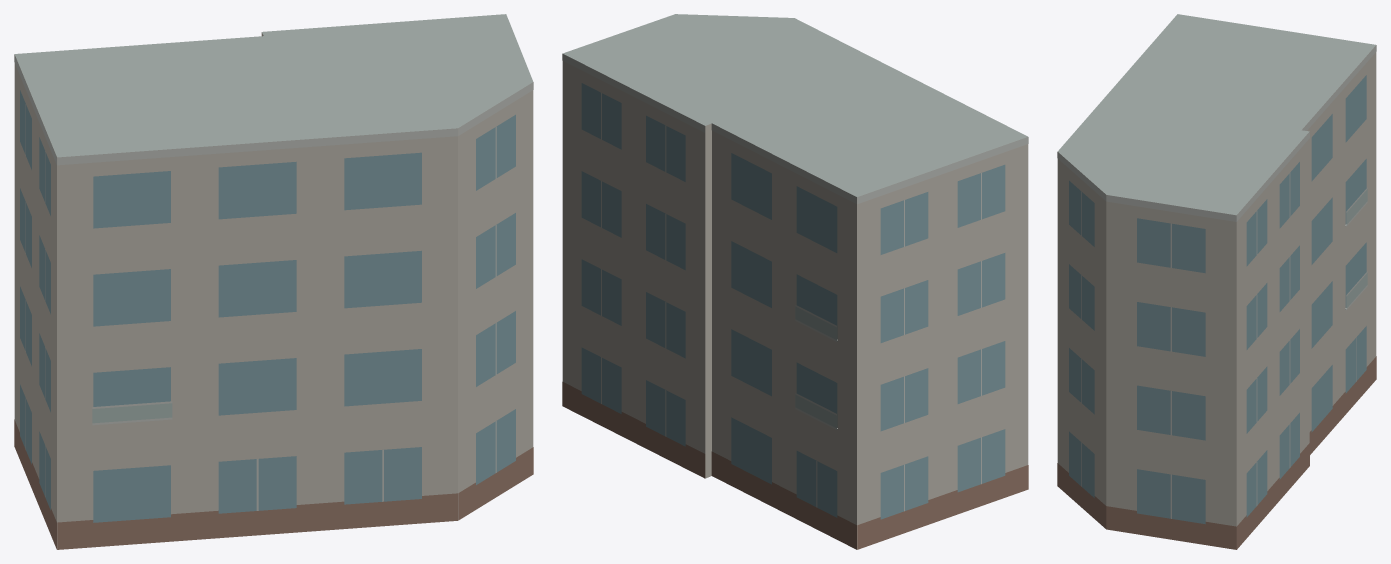
File: survey-upis-32873740.glb
The picture shows the model from 3 angles, left to right: view 1: azimuth 30°, elevation 25°; view 2: azimuth 150°, elevation 25°; view 3: azimuth 270°, elevation 25°; orthographic projection. The views are drawn at different scales.
Visible parts, largest first — view 1: survey-upis-32873740.tmp; view 2: survey-upis-32873740.tmp; view 3: survey-upis-32873740.tmp.
Part boxes in pixels (<box>): survey-upis-32873740.tmp: <box>14,14,533,549</box>; survey-upis-32873740.tmp: <box>562,14,1028,549</box>; survey-upis-32873740.tmp: <box>1057,14,1376,549</box>.
Size of the model in its own units: 15.62 by 12.1 by 10.46.
